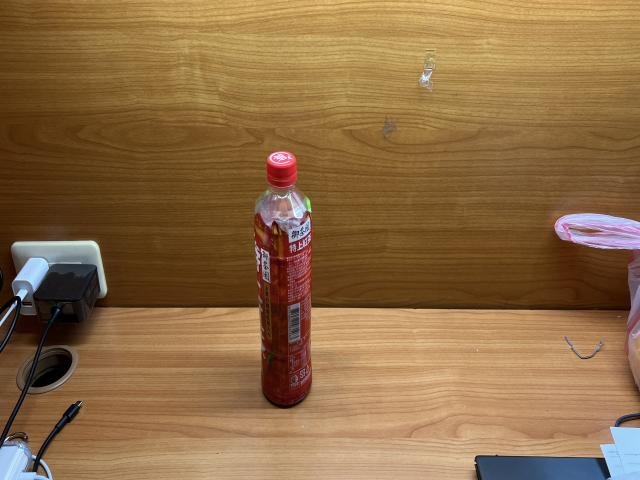bottle: (251, 150, 315, 408)
